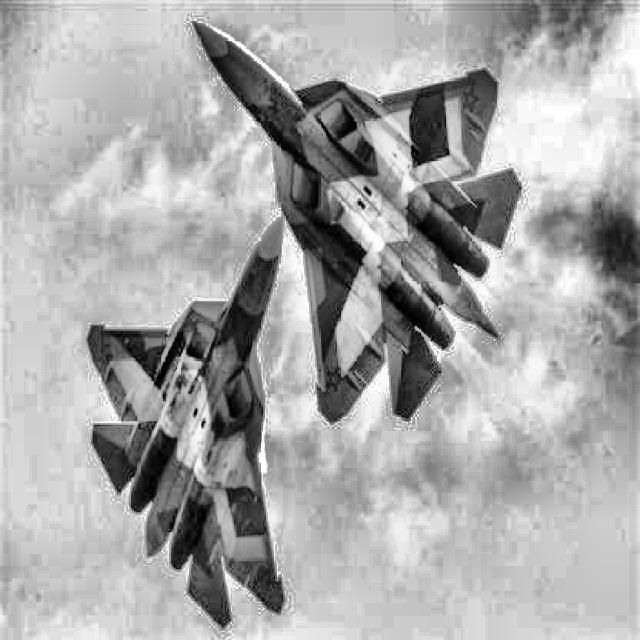Su57: (193, 20, 522, 422), (85, 213, 284, 630)
